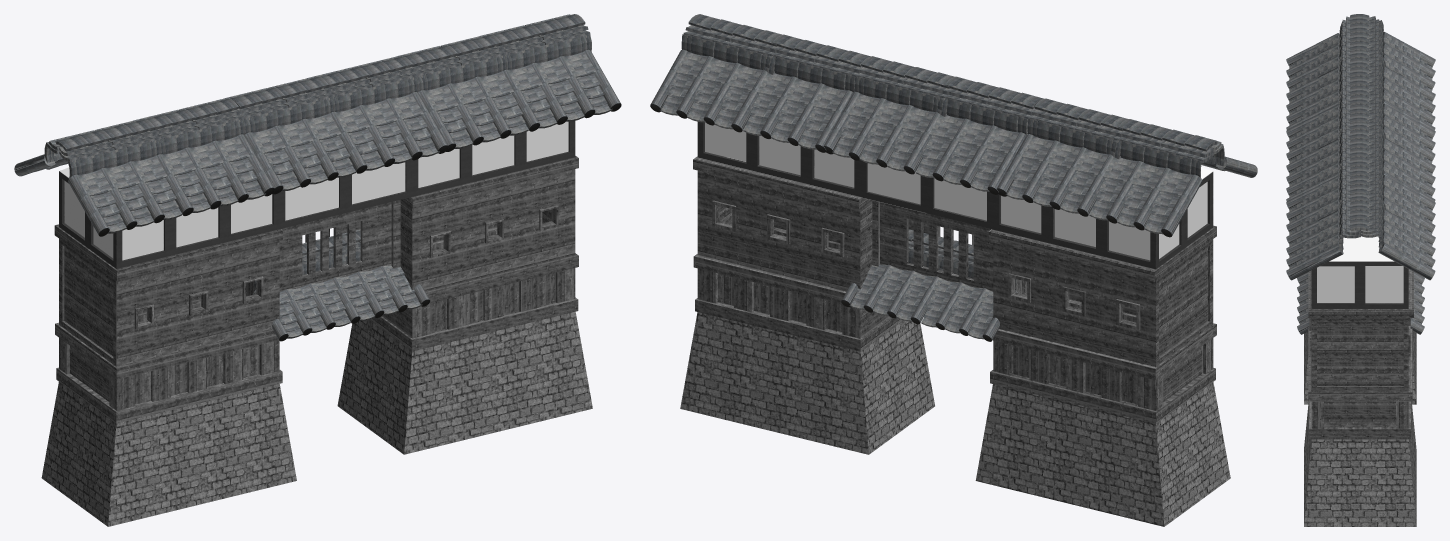
The model's file is CastleArchJapaneseV6.fbx.
3 views of the same model, side by side, from view 1: azimuth 30°, elevation 25°; view 2: azimuth 150°, elevation 25°; view 3: azimuth 270°, elevation 25° (orthographic). The views are drawn at different scales.
Parts seen in each view (by area): view 1: Arch.002, Roof; view 2: Arch.002, Roof; view 3: Roof, Arch.002.
Part boxes in pixels (x1=…): Arch.002: x1=41, y1=121, x2=592, y2=526; Roof: x1=14, y1=14, x2=621, y2=341; Arch.002: x1=680, y1=71, x2=1230, y2=526; Roof: x1=650, y1=14, x2=1257, y2=341; Roof: x1=1286, y1=14, x2=1435, y2=334; Arch.002: x1=1304, y1=236, x2=1416, y2=526.
Size of the model in its own units: 24.94 by 16.57 by 7.3.
